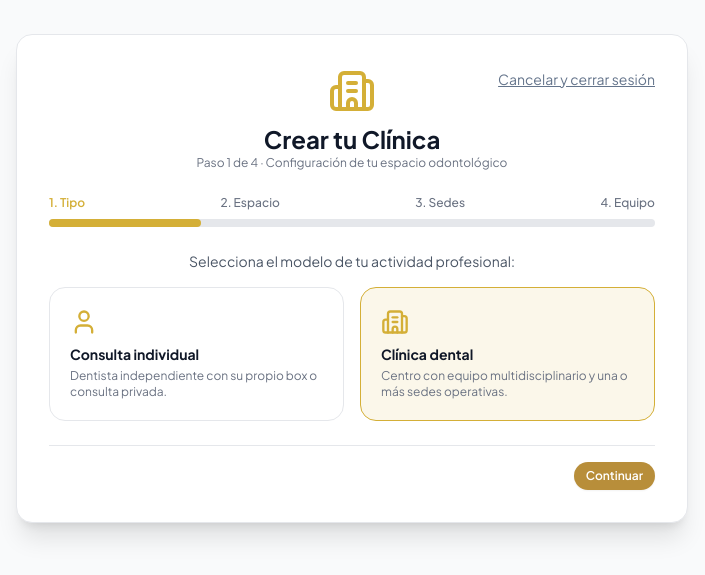
Test case: Ruta de escape del onboarding › permite retroceder con el botón Anterior al paso 1
Avanzar a paso 2
Click the button "Continuar".
click(614, 476)  # box [574,462,655,490]
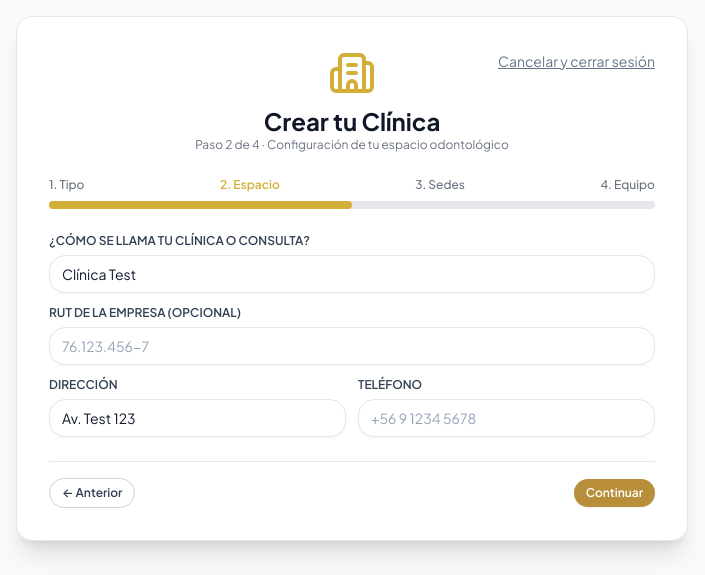
Expected: the text "← Anterior" is shown, [62,484,122,500]
Retroceder a paso 1
Click the button "← Anterior".
click(92, 492)  # box [49,478,136,508]
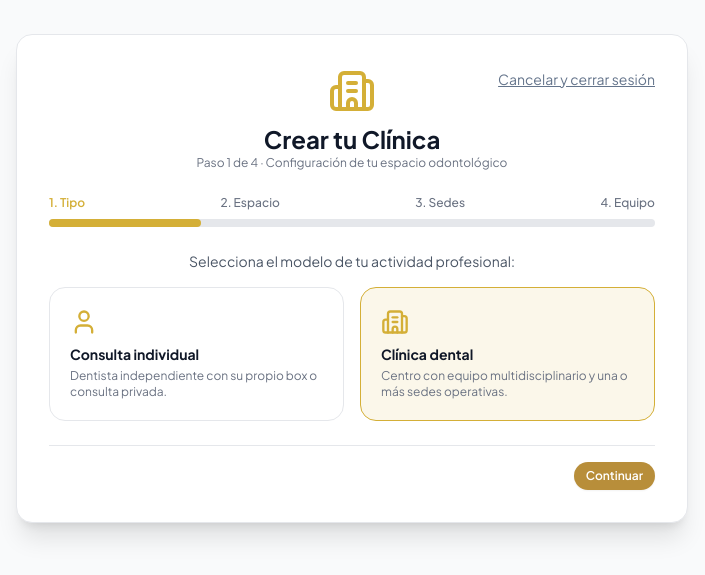
Expected: the button "Anterior" is gone
